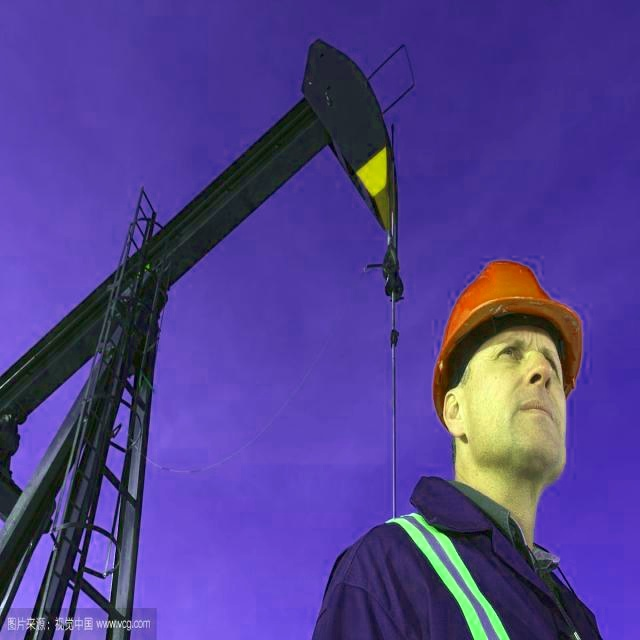Con_Casco: (431, 261, 584, 478)
